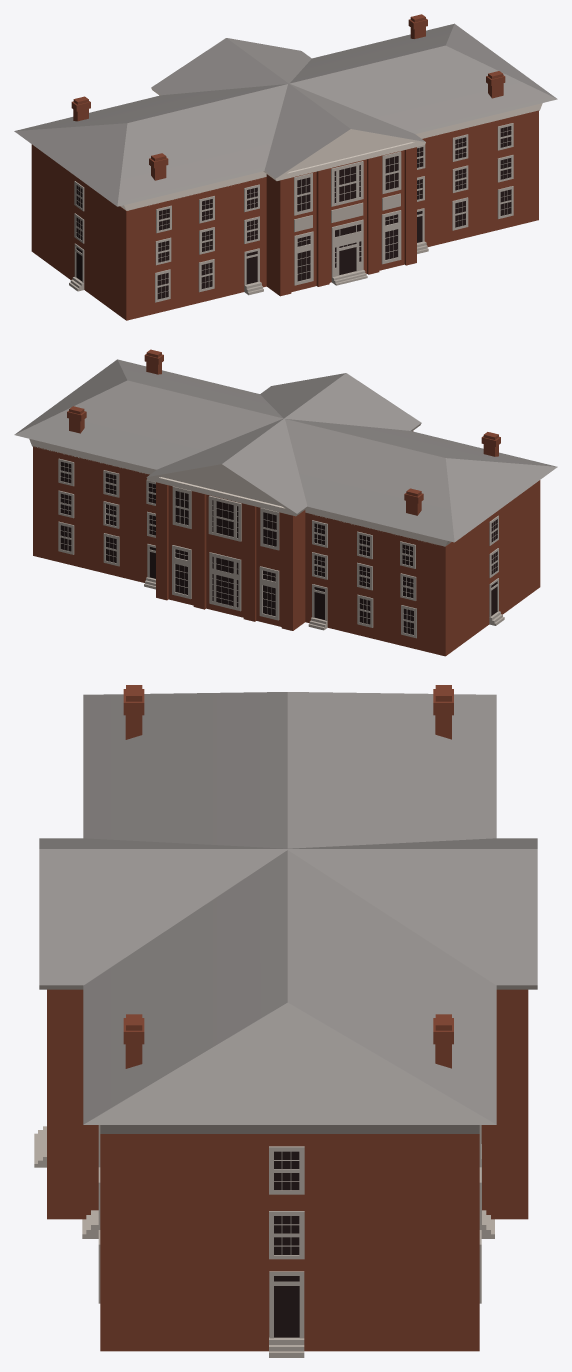
3 renders of one model, top to bottom at view 1: azimuth 30°, elevation 25°; view 2: azimuth 150°, elevation 25°; view 3: azimuth 270°, elevation 25°, orthographic. The views are drawn at different scales.
Visible parts, largest first — view 1: house1_0; view 2: house1_0; view 3: house1_0.
Boxes of the visible parts, left/top/right/bottom form: house1_0: left=14, top=14, right=557, bottom=320; house1_0: left=14, top=349, right=557, bottom=656; house1_0: left=34, top=685, right=537, bottom=1357.
Bounding box in the file's own units: 57.33 × 18.9 × 28.36.
